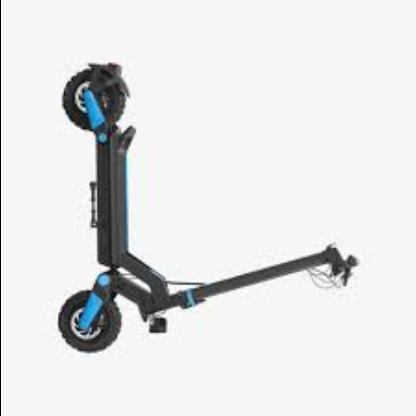bike: (57, 63, 357, 354)
